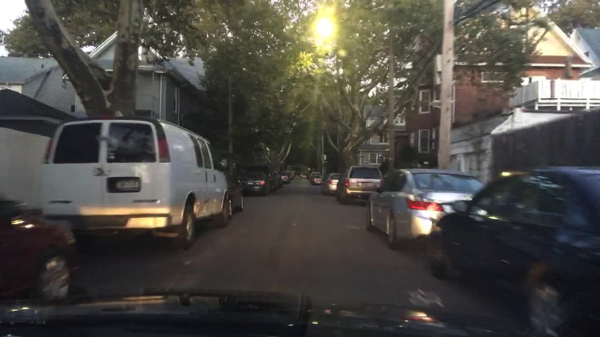car: (428, 166, 599, 336), (35, 115, 231, 250), (365, 167, 486, 250), (0, 197, 81, 301), (334, 166, 384, 203), (242, 165, 277, 193), (240, 171, 274, 197), (223, 177, 246, 213), (319, 172, 343, 194), (271, 171, 284, 189), (309, 173, 323, 184), (277, 173, 289, 183), (306, 172, 316, 180), (286, 171, 292, 180)
